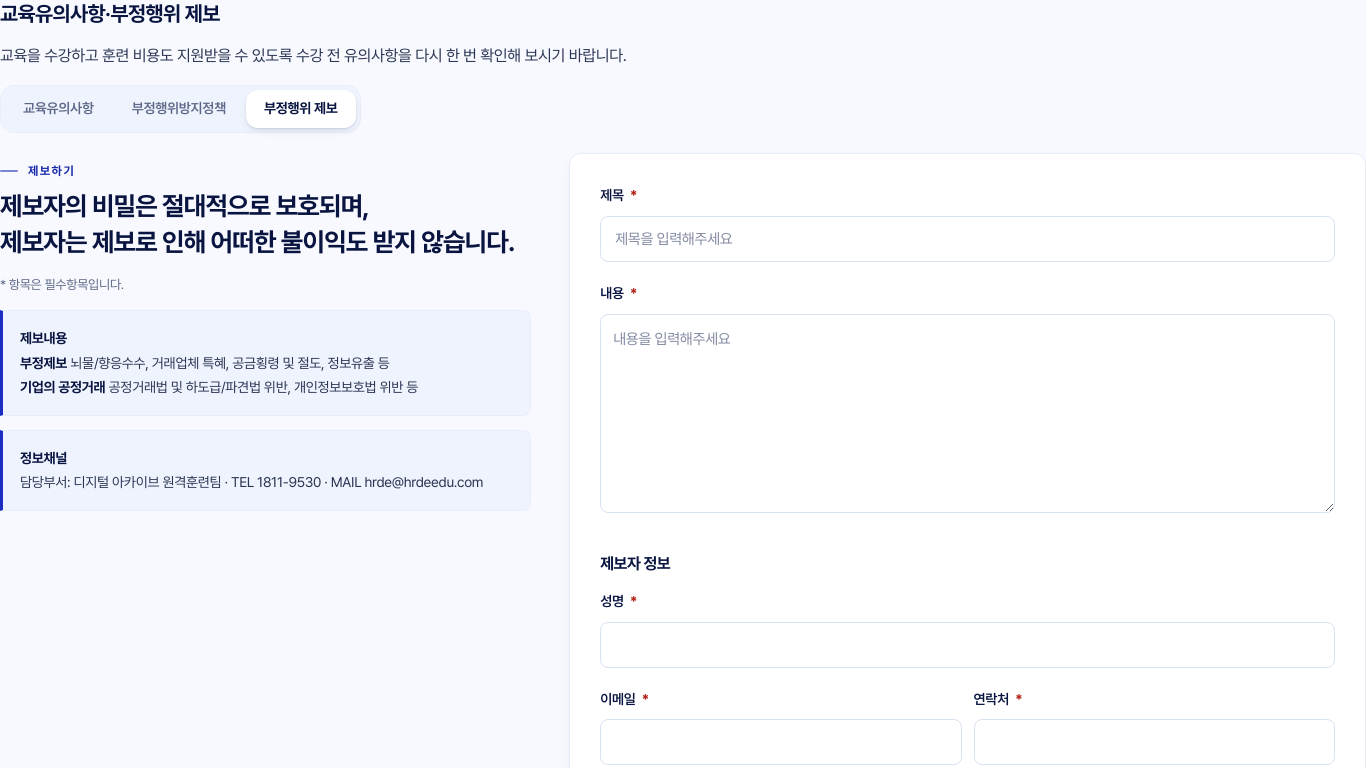
고객지원 learner pages › 부정행위 제보: 성명·이메일·연락처 are required like cheating_ok.php, no member id is sent
Type "대리수강 제보" into the field labelled "제목 *".
click(968, 239); type("대리수강 제보")  # box [600,216,1335,262]
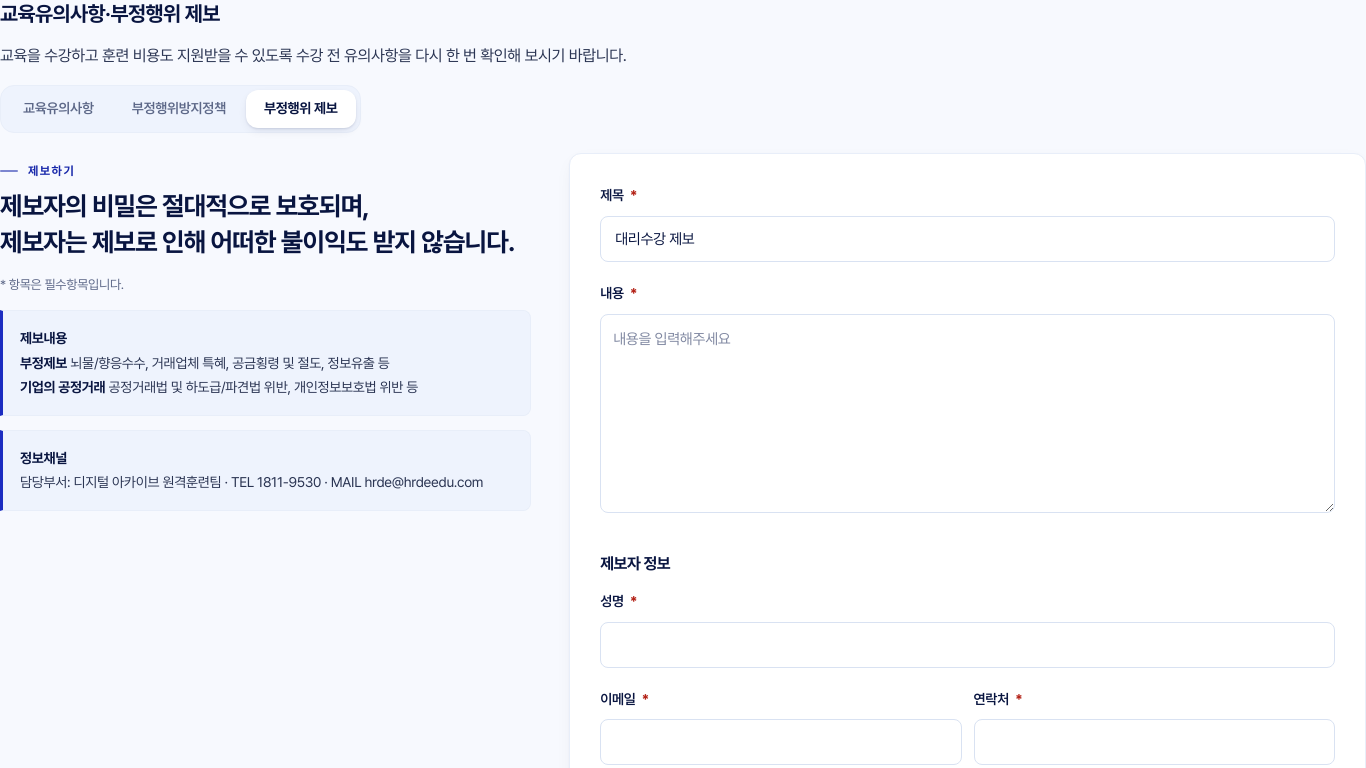
Type "의심 사례" into the text box labelled "내용 *".
click(968, 413); type("의심 사례")  # box [600,314,1335,513]
(page scrolled)
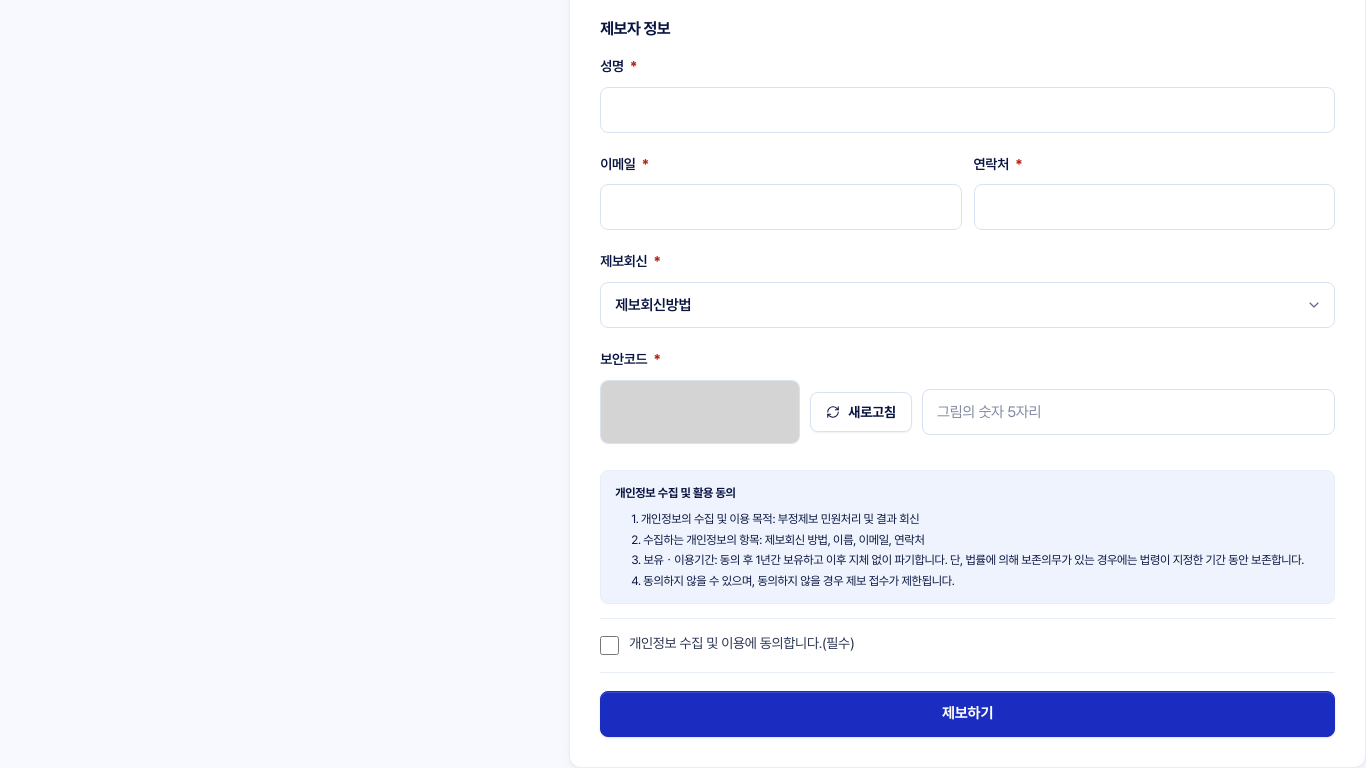
Click the button "제보하기".
click(968, 714)  # box [600,691,1335,737]
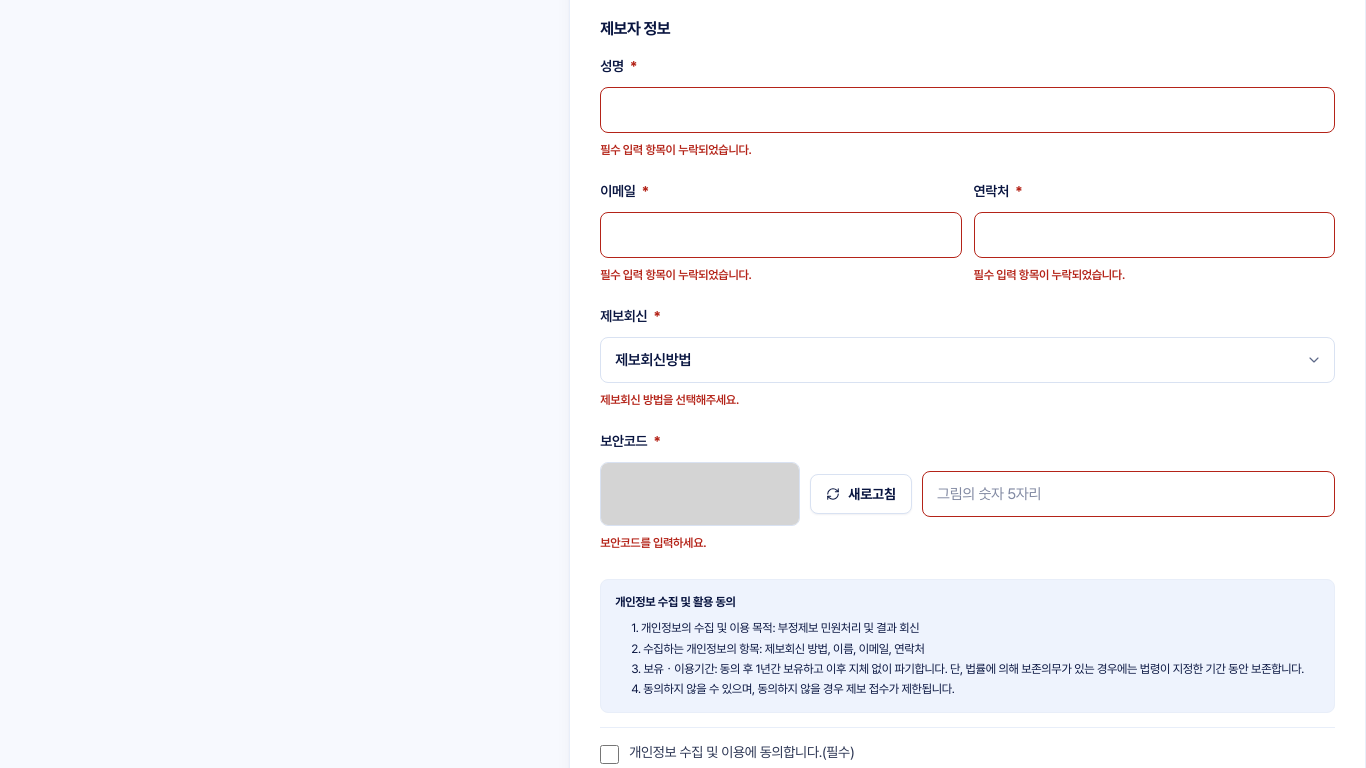
expect the text "필수 입력 항목이 누락되었습니다." is shown 3 times: met, box [600,143,752,157]; [600,268,752,282]; [974,268,1125,282]
expect the text "제보회신 방법을 선택해주세요." is shown: met, box [600,393,739,407]
